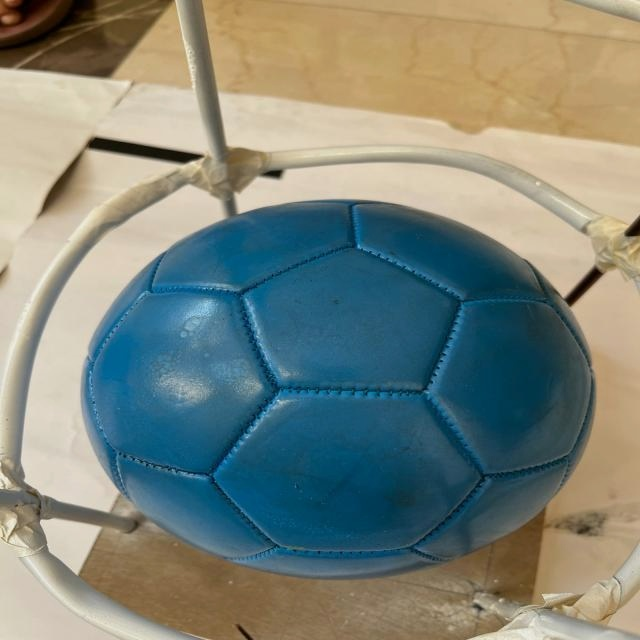blue_ball: (82, 194, 596, 567)
silo: (0, 0, 640, 640)
